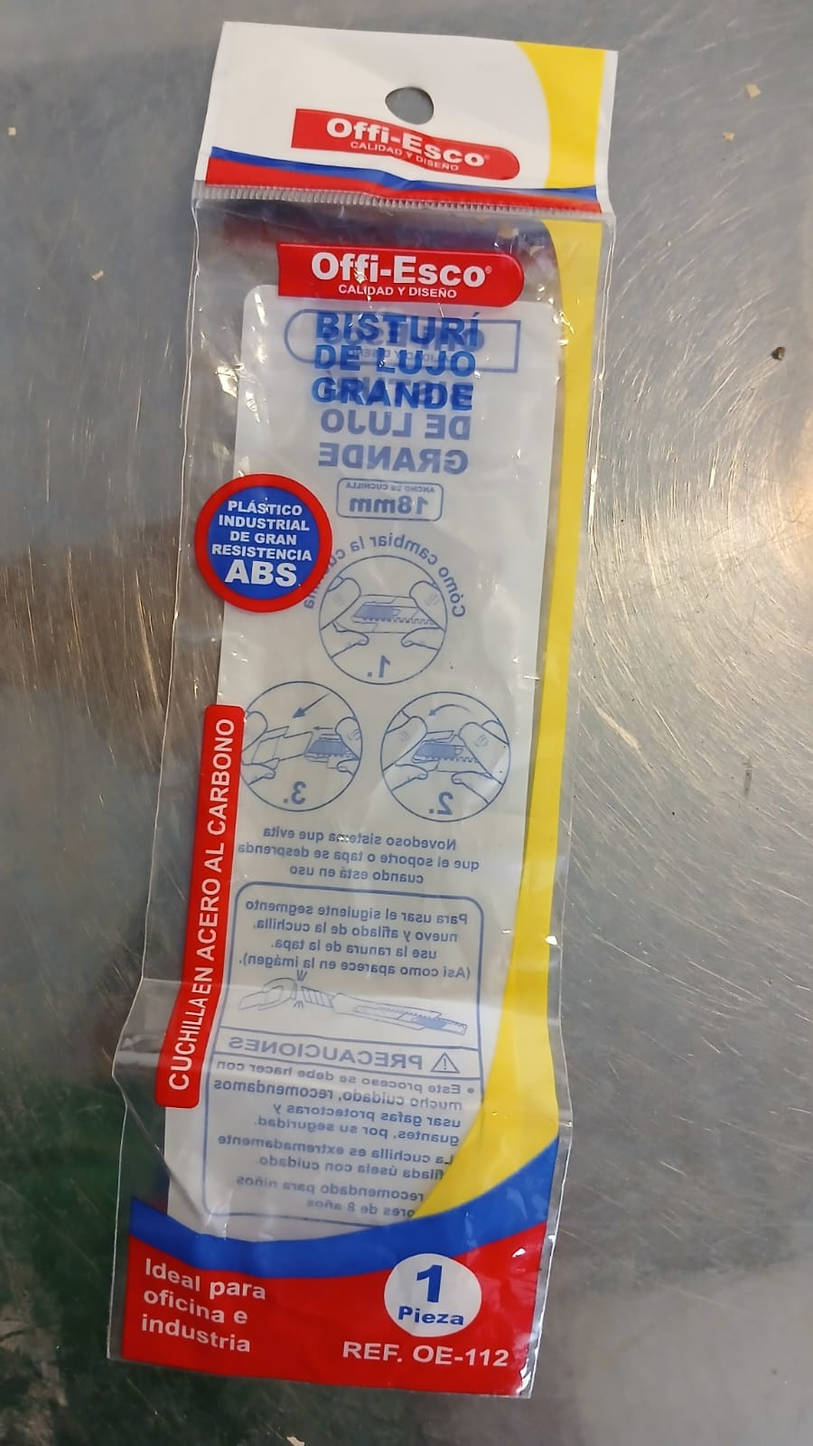Ordinario: (105, 22, 619, 1406)
